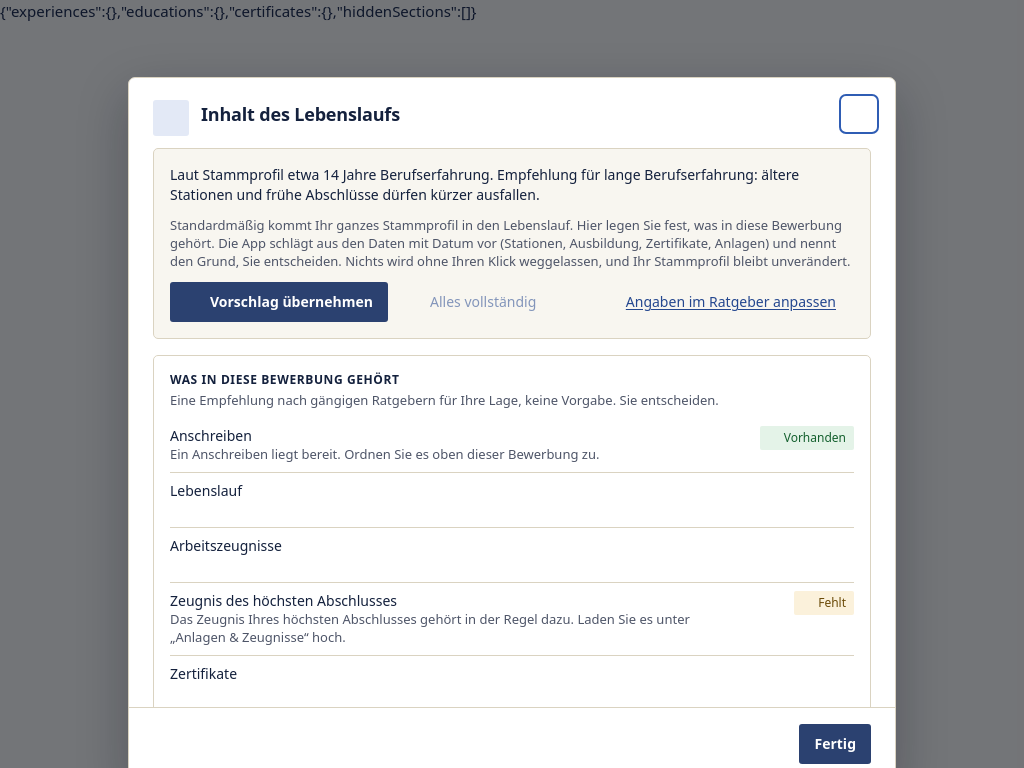
Test case: CvContentDialog › takes the suggestion on a click, keeps every value editable, marks a value that differs and resets to complete
Click the button "undefined Vorschlag übernehmen".
click(279, 302)  # box [170,282,388,322]
(page scrolled)
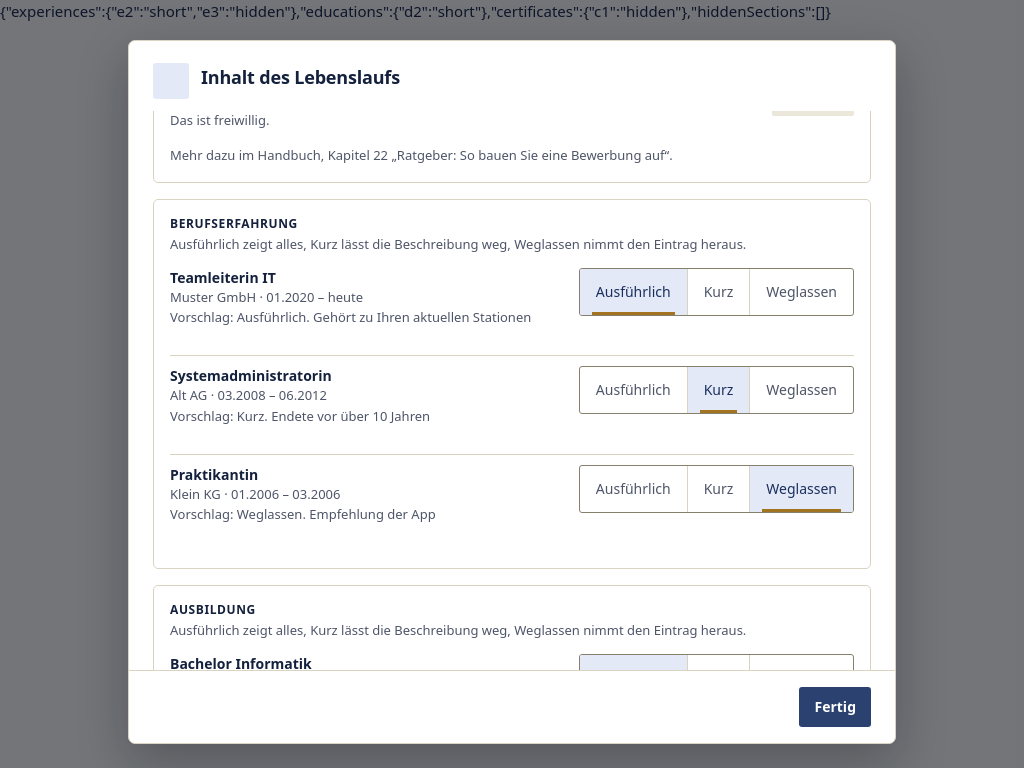
Check: the text "Weicht ab" is not shown
Click the radio button labelled "Weglassen" in the row of "Systemadministratorin".
click(801, 390)  # box [749,367,853,413]
(page scrolled)
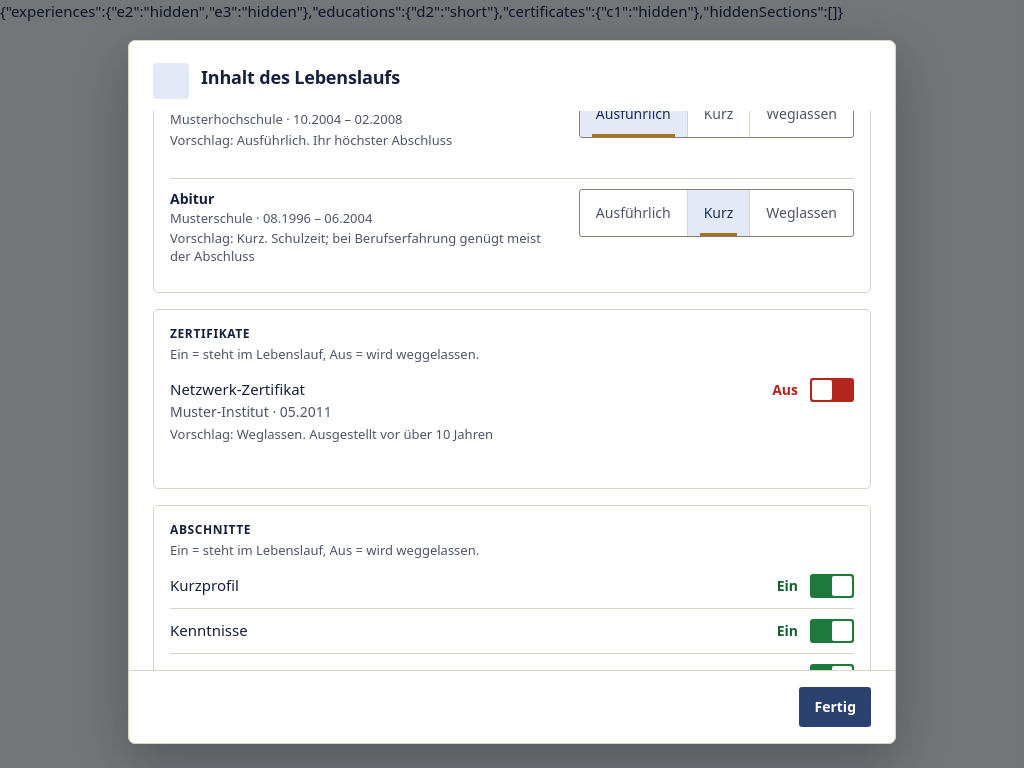
Click the switch named "Netzwerk-Zertifikat".
click(832, 390)  # box [810,378,854,402]
(page scrolled)
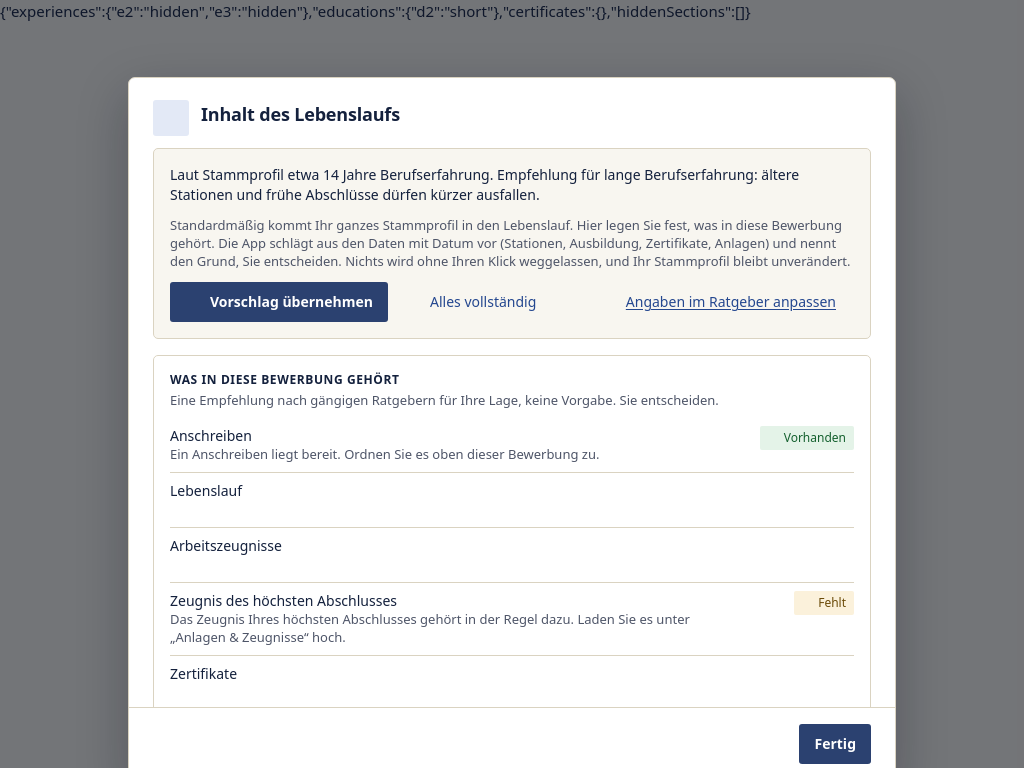
Click the button "undefined Alles vollständig".
click(471, 302)  # box [396,282,545,322]
(page scrolled)
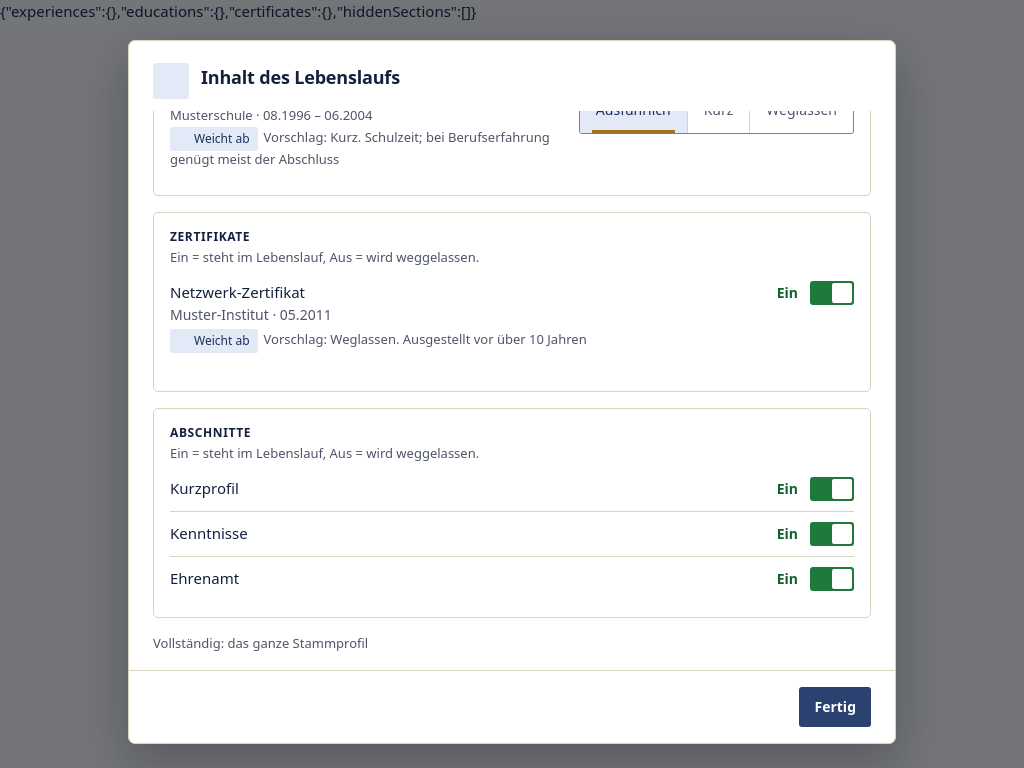
Check: the text with test id "cv-content-result" reads "Vollständig: das ganze Stammprofil", box [153,634,368,652]
